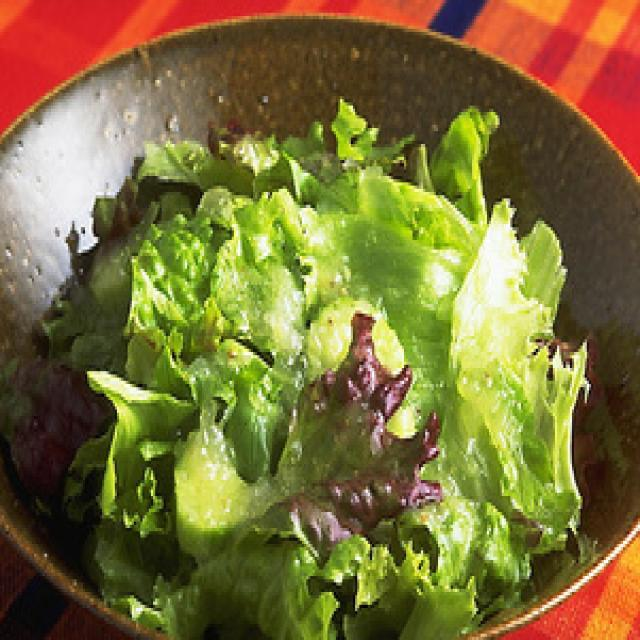Green Salad: (74, 128, 582, 614)
